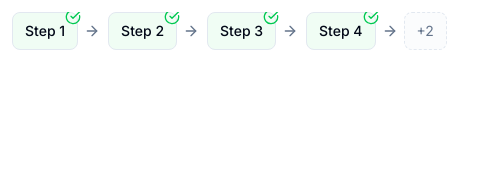
Test: ProcessFlowPreview › tooltips › should show ellipsis tooltip with correct count
The width and height of the screenshot is (498, 172).
Note: Hover over ellipsis to trigger tooltip
Hover over the text "+2": (425, 31) x1=404 y1=12 x2=447 y2=50
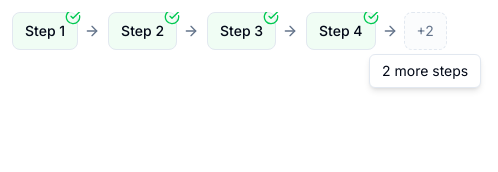
Now the tooltip reads "2 more steps", box x1=369 y1=54 x2=481 y2=88
